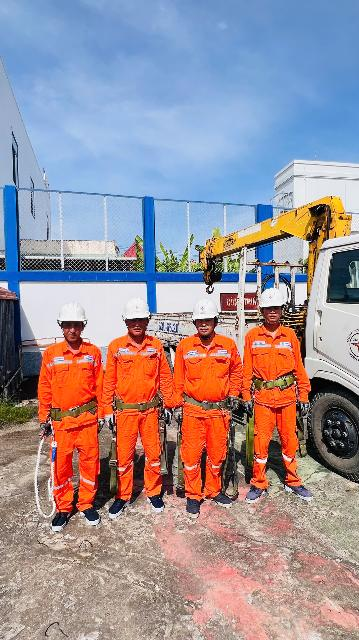gloves: (157, 409, 172, 425), (298, 403, 311, 421), (244, 398, 256, 416), (230, 394, 240, 413), (95, 416, 105, 434), (106, 413, 116, 431), (175, 405, 184, 422)
harness: (43, 398, 106, 420), (179, 388, 232, 411), (109, 392, 166, 413), (247, 372, 302, 388)
helmet: (52, 300, 91, 329), (120, 294, 161, 320), (253, 289, 289, 310), (196, 296, 222, 321)
shoes: (287, 481, 315, 504), (108, 493, 131, 520), (46, 507, 71, 531), (73, 506, 103, 526), (245, 481, 266, 504), (141, 493, 166, 512), (206, 492, 234, 508), (188, 493, 201, 520)
